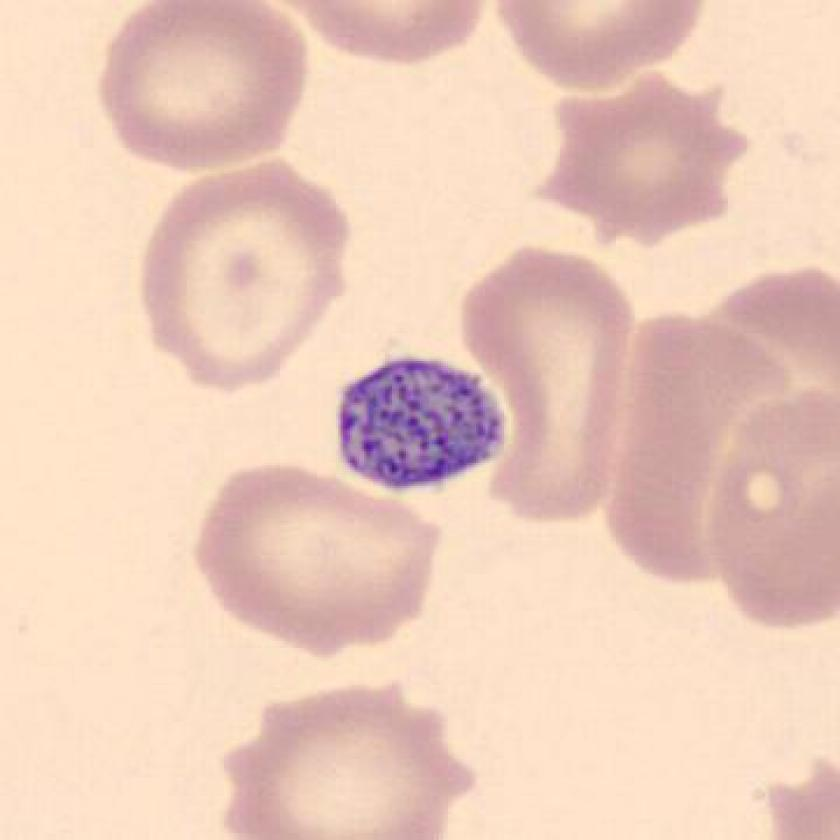platelets: (328, 348, 512, 492)
